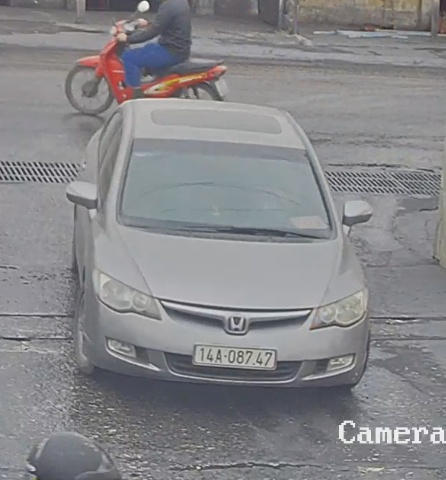vehicle plate: (189, 340, 278, 376)
